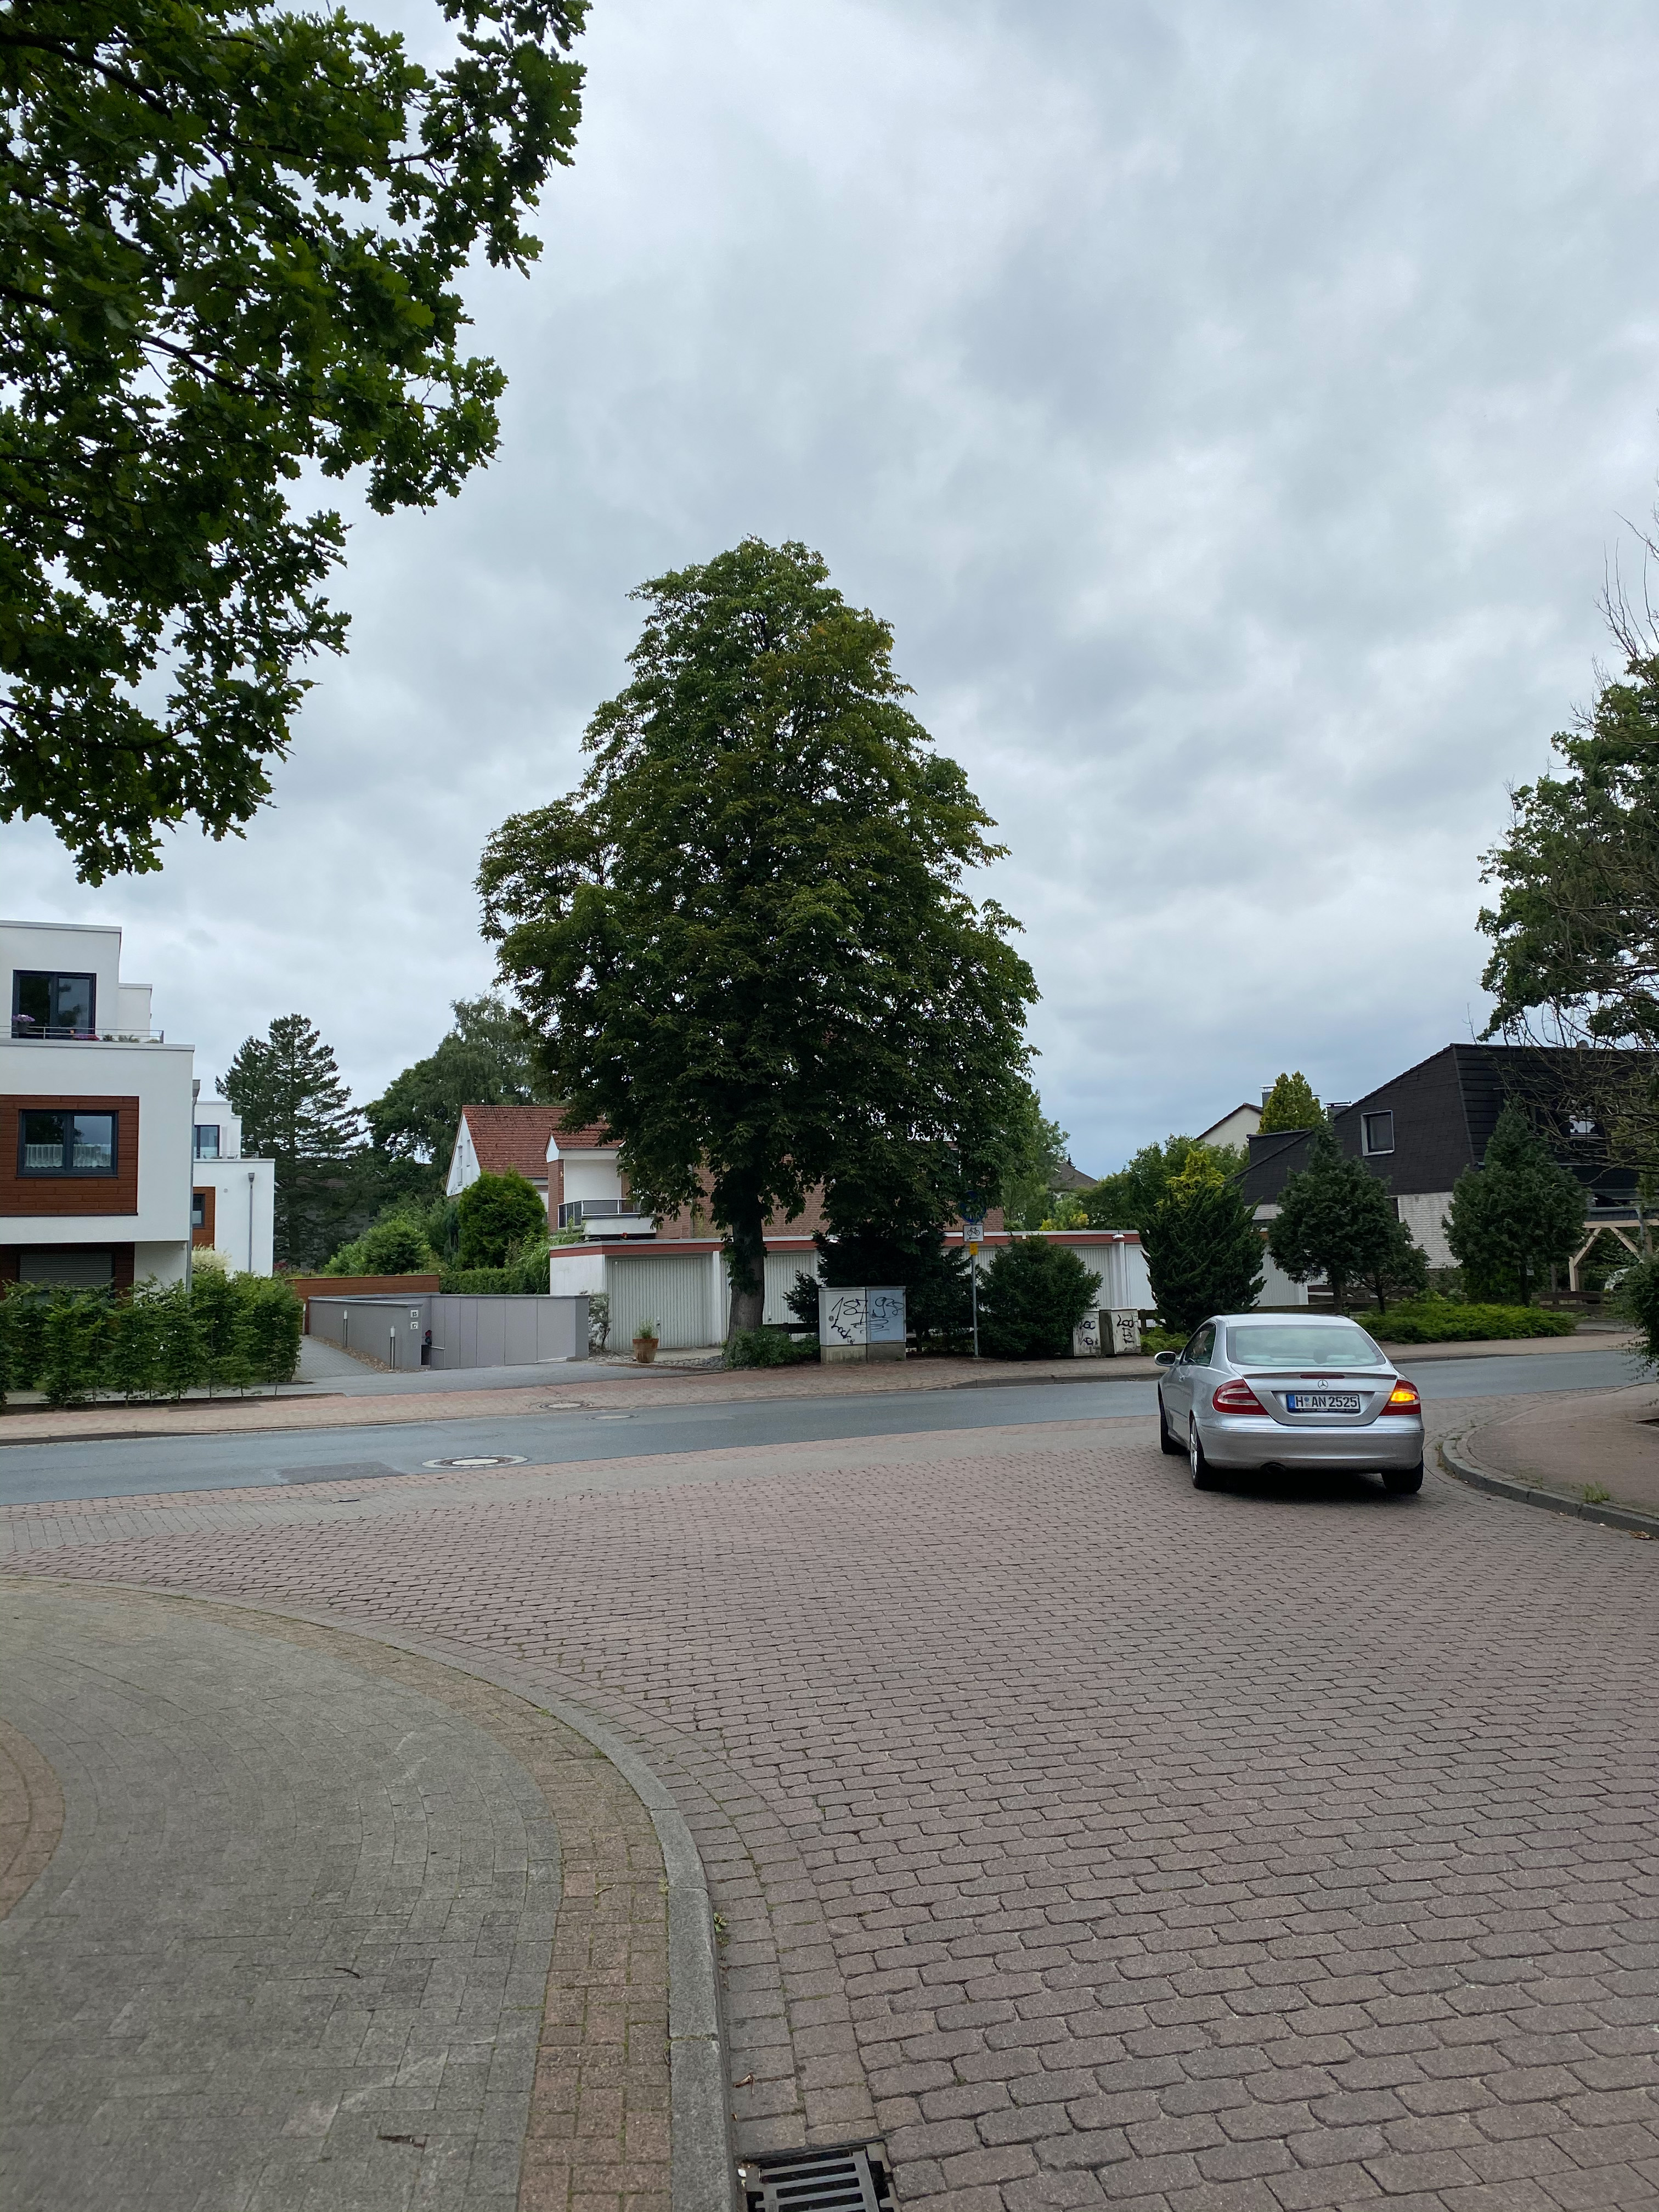tree: (0, 0, 592, 890), (474, 536, 1046, 1364), (1460, 477, 1659, 1259), (1474, 653, 1659, 1045), (216, 1012, 373, 1273), (364, 995, 573, 1179), (1439, 1096, 1588, 1308), (1269, 1118, 1412, 1317), (1075, 1134, 1248, 1231), (1256, 1071, 1328, 1136)
